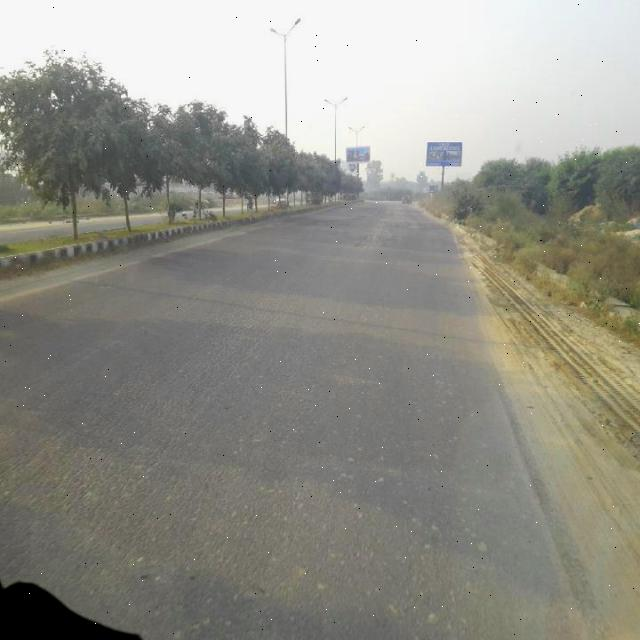D20: (6, 262, 374, 574)
